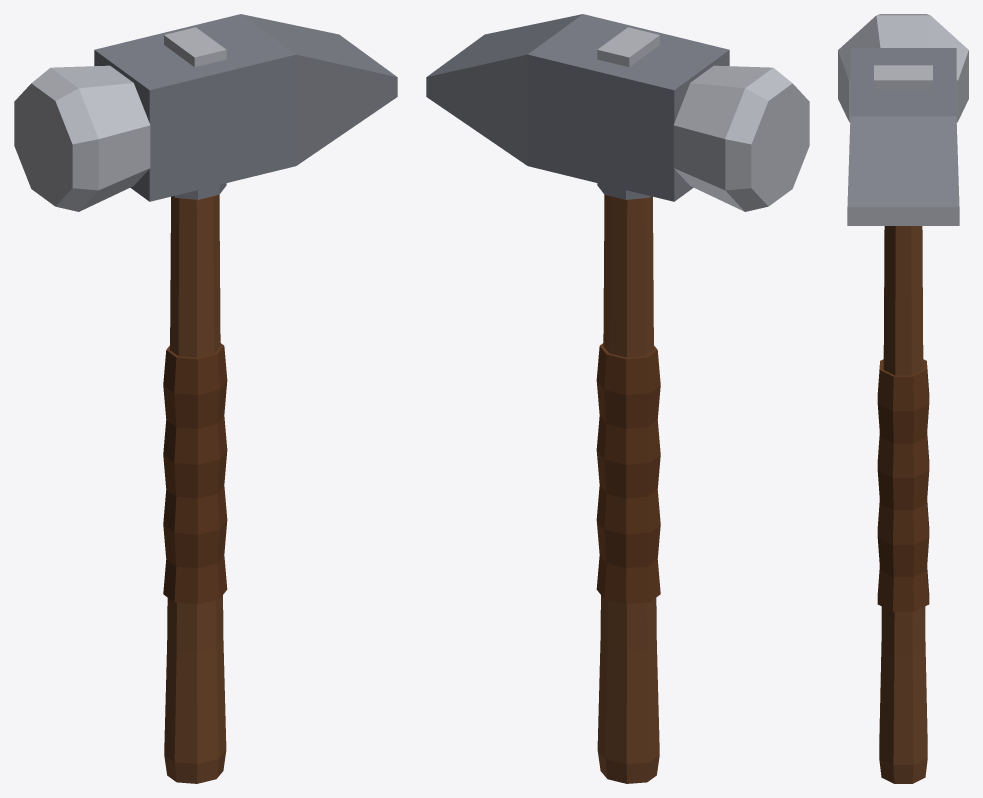
The model's file is W2_SmithHammer.fbx.
3 renders of one model, left to right at view 1: azimuth 30°, elevation 25°; view 2: azimuth 150°, elevation 25°; view 3: azimuth 270°, elevation 25°, orthographic. The views are drawn at different scales.
Visible parts, largest first — view 1: W2_SmithHammer; view 2: W2_SmithHammer; view 3: W2_SmithHammer.
Part boxes in pixels (bbox=[...]): W2_SmithHammer: bbox=[14, 14, 397, 783]; W2_SmithHammer: bbox=[426, 14, 809, 783]; W2_SmithHammer: bbox=[838, 14, 968, 783].
Size of the model in its own units: 24.4 by 52.4 by 8.87.
